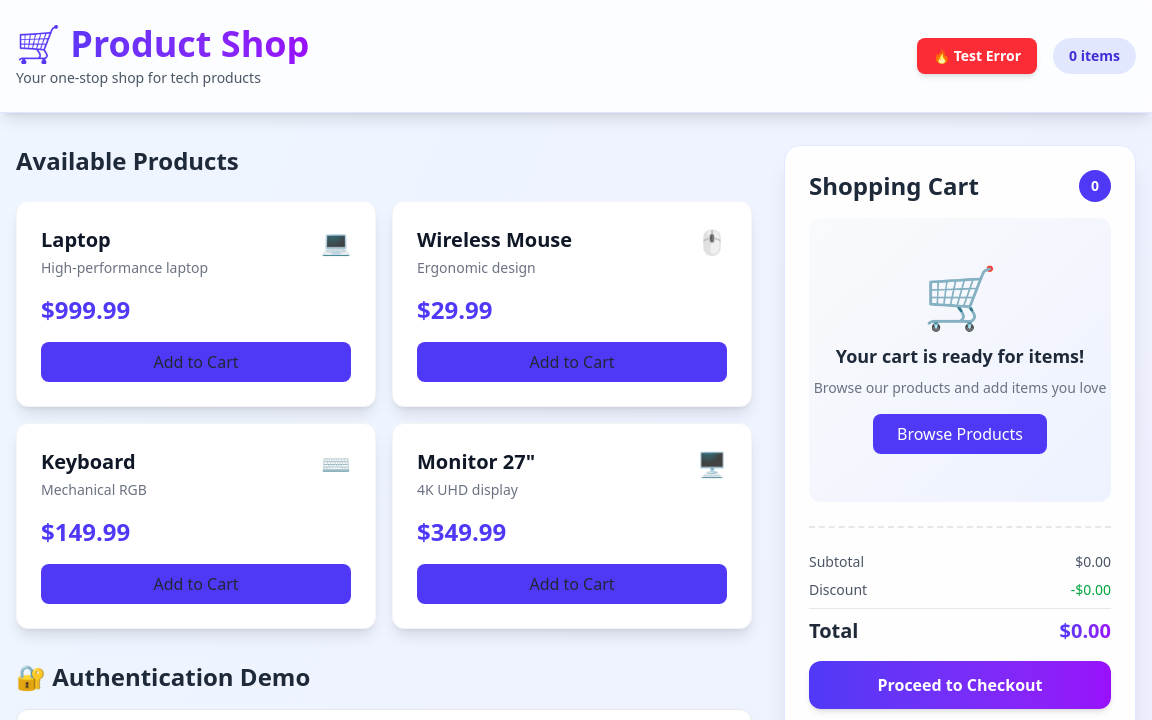
Test: App Integration › should add multiple different products to cart
Expected: the heading "Laptop" is shown, [41, 226, 111, 253]
// Add laptop and mouse
Click the button "Add to Cart" below "$999.99" at (196, 362), box [41, 342, 351, 382]
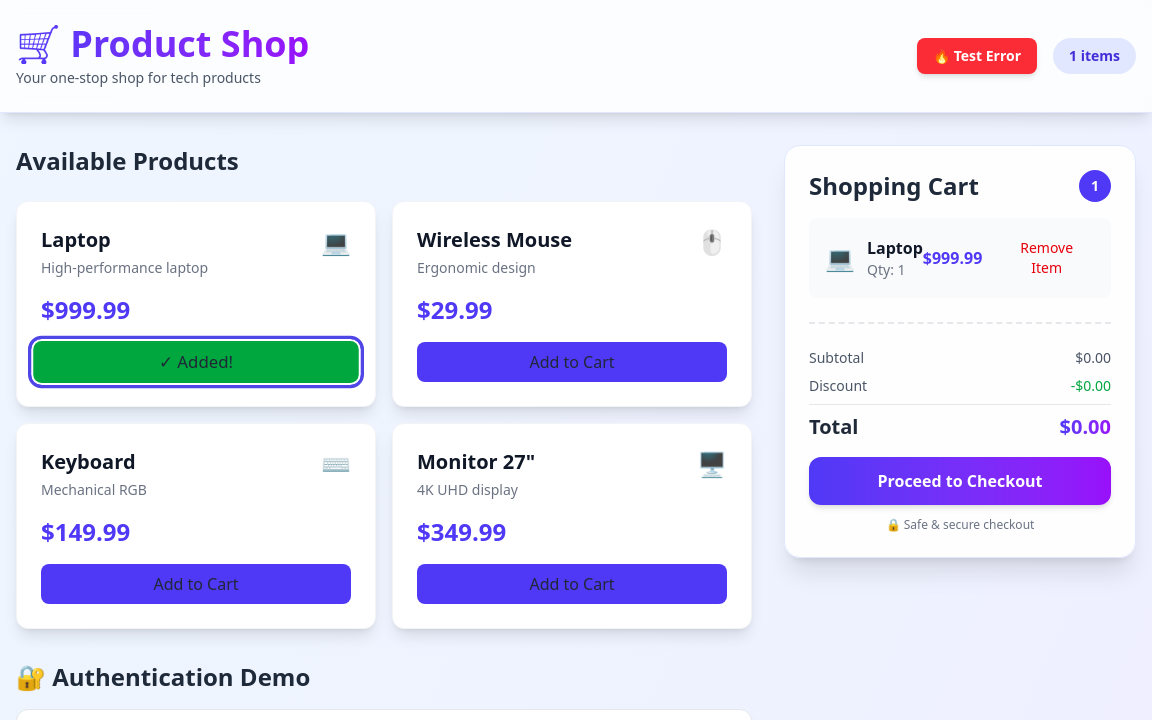
Click the button "Add to Cart" below "$29.99" at (572, 362), box [417, 342, 727, 382]
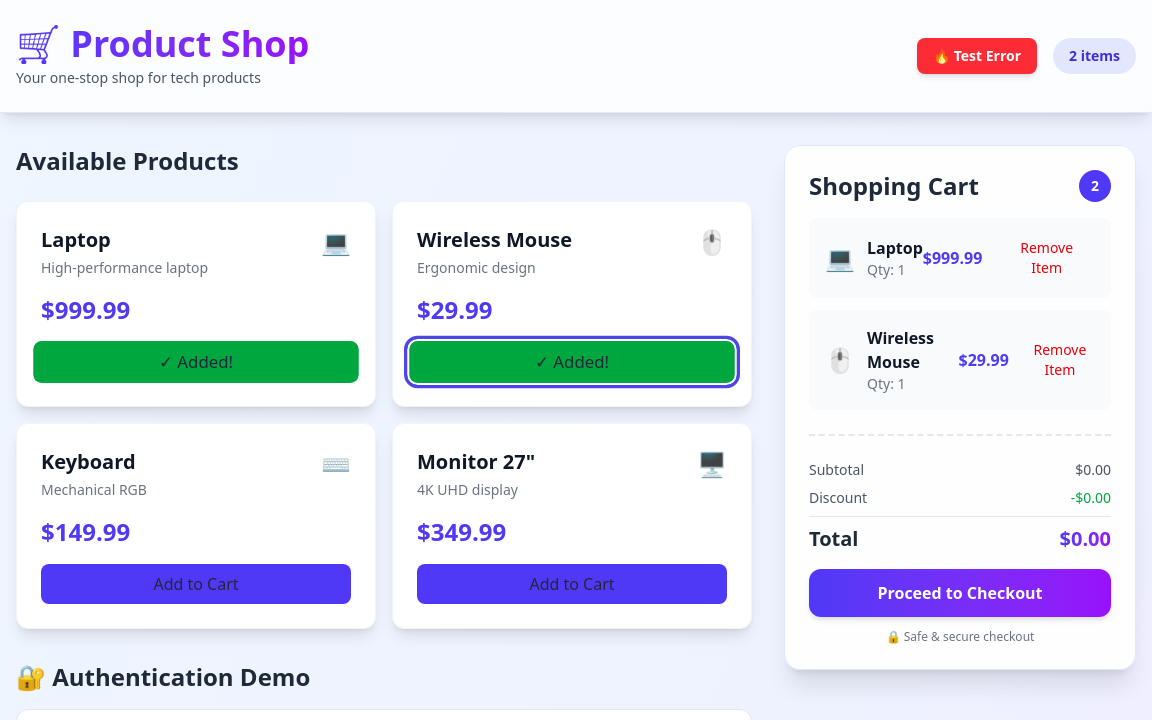
Expected: the text "2 items" is shown, [1053, 38, 1136, 74]
